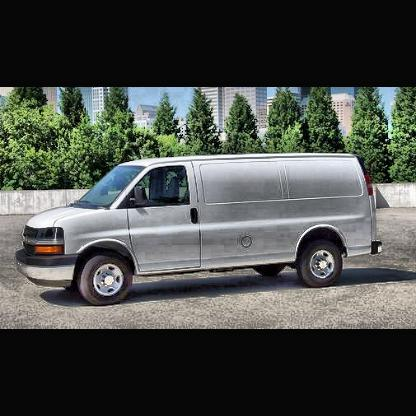Chevrolet Express Cargo Van 2007: (14, 149, 385, 310)
